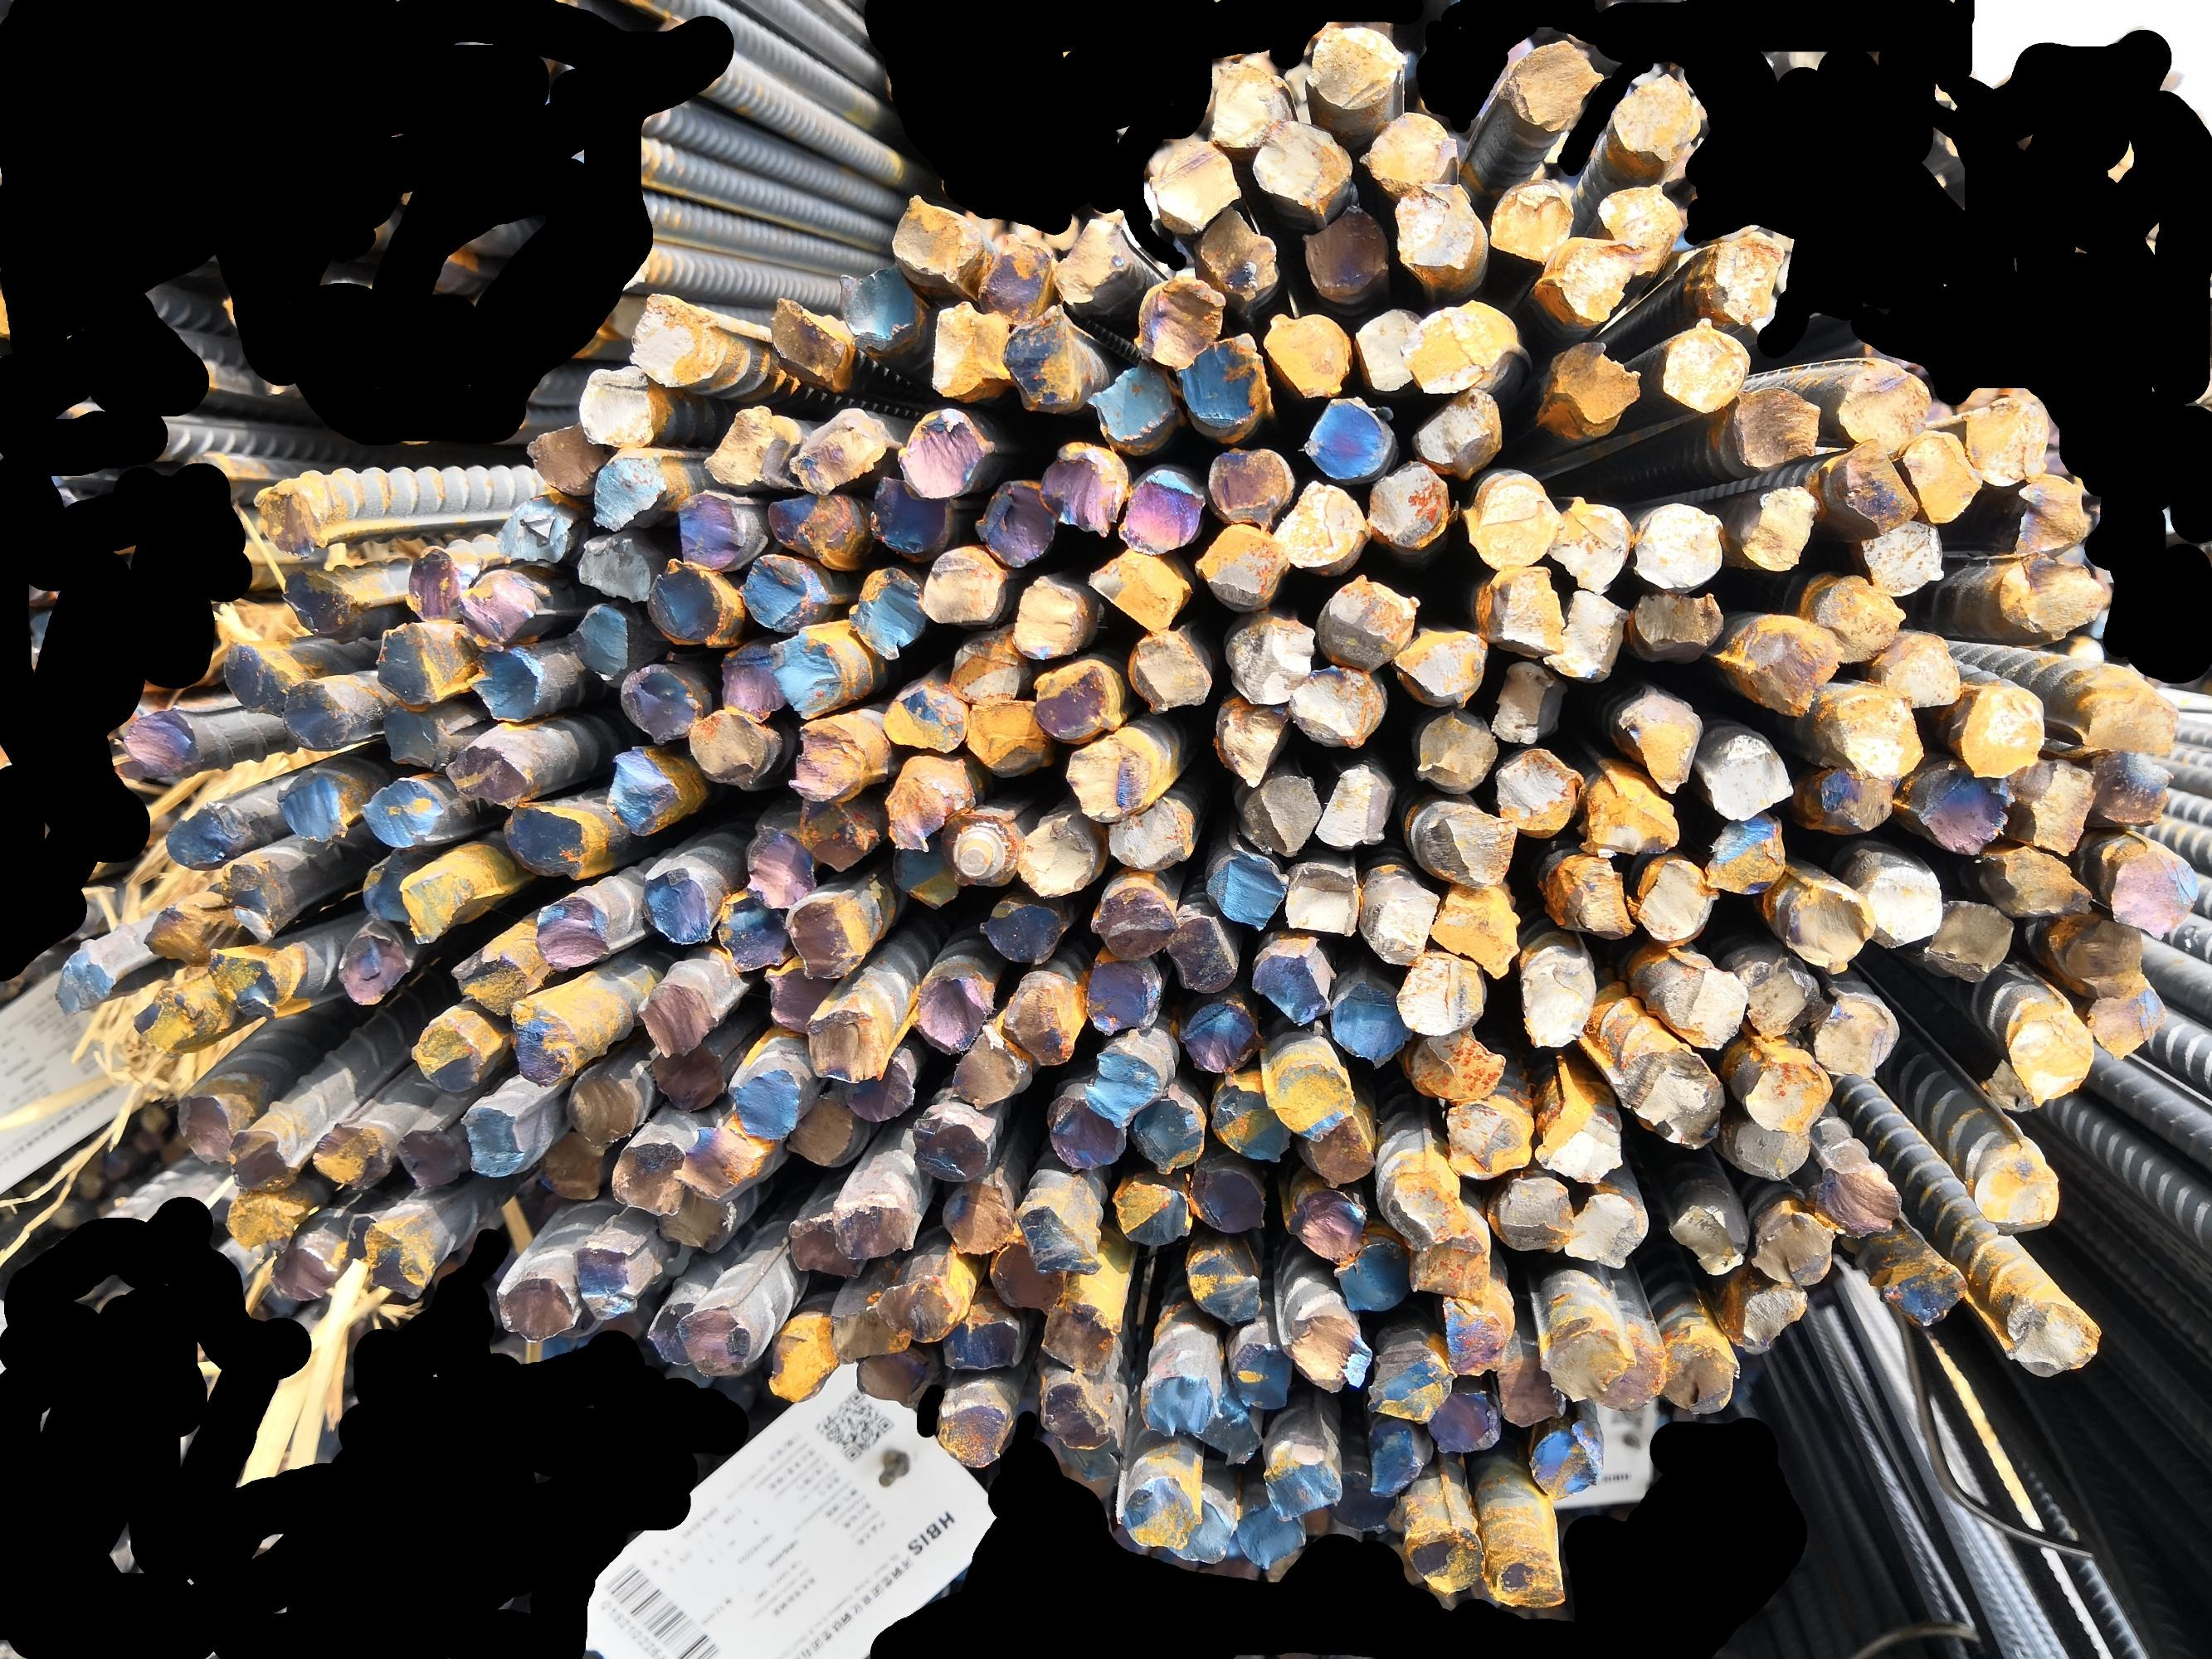bar: (1607, 1042, 1726, 1150), (1400, 295, 1522, 394), (1811, 683, 1924, 784), (1736, 617, 1842, 718), (622, 289, 725, 390), (1832, 352, 1933, 455), (1497, 38, 1605, 134), (1992, 551, 2106, 641), (1959, 1138, 2064, 1236), (1905, 760, 2013, 854), (2069, 666, 2182, 755), (1394, 179, 1487, 288), (1994, 1290, 2102, 1382), (2099, 840, 2200, 938), (1428, 878, 1523, 981), (1175, 329, 1271, 432), (1316, 570, 1417, 666), (1252, 117, 1354, 211), (1537, 338, 1640, 432), (1632, 495, 1727, 594), (1848, 850, 1944, 950), (1579, 763, 1680, 857), (1781, 875, 1876, 976), (786, 404, 891, 495), (1656, 315, 1752, 413), (1462, 472, 1560, 568), (1082, 359, 1182, 453), (1035, 436, 1128, 537), (1802, 572, 1905, 662), (1001, 301, 1082, 415), (896, 406, 995, 498), (1306, 23, 1410, 110), (1612, 688, 1700, 793), (887, 192, 983, 286), (1607, 68, 1701, 164), (1537, 587, 1632, 683), (1956, 680, 2046, 779), (2006, 1004, 2095, 1105), (1360, 106, 1462, 193), (1084, 547, 1191, 631), (1272, 476, 1367, 570), (1532, 1089, 1625, 1185), (1700, 728, 1795, 821), (1959, 392, 2052, 488), (1191, 204, 1279, 303), (1063, 735, 1164, 823), (1536, 1316, 1637, 1403), (837, 260, 922, 362), (1131, 275, 1225, 368), (1147, 139, 1241, 232), (1626, 854, 1722, 945), (1550, 491, 1633, 594), (1297, 202, 1389, 295), (882, 755, 973, 849), (931, 296, 1009, 404), (1417, 807, 1518, 890), (1518, 948, 1598, 1053), (1222, 613, 1314, 704), (1492, 746, 1583, 838), (1656, 964, 1748, 1054), (1811, 986, 1902, 1079), (1365, 460, 1454, 554), (1595, 181, 1682, 277), (1389, 626, 1489, 709), (1834, 437, 1916, 538), (2043, 915, 2144, 997), (1279, 1307, 1370, 1398), (971, 476, 1060, 568), (1394, 948, 1487, 1037), (1260, 310, 1353, 399), (671, 1114, 758, 1208), (736, 552, 840, 631), (1208, 692, 1295, 786), (1030, 659, 1126, 744), (1405, 387, 1504, 469), (1902, 427, 1984, 526), (1051, 209, 1131, 310), (1358, 866, 1438, 967), (1733, 383, 1823, 472), (1117, 464, 1204, 556), (1297, 394, 1391, 479), (1548, 239, 1642, 324), (1921, 897, 2015, 983), (1288, 666, 1386, 748), (763, 491, 865, 570), (1731, 950, 1820, 1039), (572, 362, 662, 450), (784, 887, 870, 979), (500, 803, 596, 885), (847, 565, 929, 660), (1330, 972, 1412, 1068), (1192, 525, 1288, 606), (1703, 230, 1785, 326), (1208, 54, 1288, 152), (1489, 174, 1574, 265), (1440, 1094, 1532, 1178), (647, 556, 729, 650), (263, 1223, 352, 1309), (931, 1380, 1016, 1469), (1313, 760, 1398, 849), (866, 476, 957, 559), (1379, 1166, 1469, 1249), (1407, 709, 1497, 793), (1480, 566, 1564, 657), (769, 626, 849, 720), (1262, 1061, 1356, 1141), (1407, 1028, 1510, 1101), (605, 742, 683, 838), (1848, 519, 1947, 594), (685, 708, 772, 793), (1208, 1077, 1293, 1164), (1236, 772, 1323, 857), (699, 401, 783, 490), (1013, 1194, 1102, 1277), (1736, 483, 1820, 572), (1546, 856, 1635, 939), (767, 295, 849, 385), (1112, 1469, 1203, 1551), (1103, 795, 1198, 873), (1401, 1514, 1487, 1600), (786, 718, 873, 802), (1126, 626, 1210, 713), (1246, 941, 1330, 1028), (2005, 474, 2092, 558), (333, 918, 415, 1007), (617, 664, 706, 746), (1700, 812, 1788, 894), (1748, 1209, 1839, 1290), (974, 230, 1053, 322), (912, 962, 990, 1054), (1741, 1058, 1834, 1136), (507, 995, 584, 1089), (1204, 847, 1288, 932), (1564, 1187, 1651, 1269), (1089, 880, 1178, 960), (2020, 760, 2095, 854), (1991, 847, 2092, 917), (636, 974, 720, 1058), (1082, 1044, 1166, 1127), (1206, 446, 1290, 530), (460, 563, 546, 645), (589, 446, 671, 532), (950, 1025, 1032, 1110), (1876, 627, 1961, 709), (1489, 659, 1569, 746), (357, 774, 446, 852), (443, 737, 542, 807), (1809, 1164, 1902, 1239), (532, 892, 615, 974), (1435, 1293, 1517, 1377), (1525, 1417, 1607, 1500), (723, 1061, 804, 1147), (920, 547, 1006, 627), (1663, 1197, 1748, 1277), (309, 1115, 396, 1194), (464, 645, 551, 723), (1485, 1175, 1572, 1253), (2088, 749, 2175, 828), (490, 488, 579, 565), (1009, 570, 1086, 659), (223, 1182, 314, 1256), (743, 819, 818, 910), (1001, 978, 1075, 1068), (446, 945, 539, 1018), (1632, 591, 1726, 662), (1126, 1091, 1206, 1175), (281, 565, 366, 643), (397, 861, 476, 946), (676, 1297, 755, 1382), (1018, 812, 1096, 897), (249, 474, 326, 561), (976, 897, 1072, 967), (1177, 999, 1264, 1075), (1365, 1349, 1454, 1424), (1877, 1260, 1970, 1331), (2086, 978, 2167, 1060), (120, 704, 204, 782), (275, 762, 354, 845), (127, 979, 211, 1058), (561, 1065, 640, 1148), (652, 1178, 736, 1256), (769, 1309, 838, 1403), (804, 1006, 887, 1084), (207, 945, 293, 1021), (492, 1270, 577, 1347), (1279, 1183, 1365, 1260), (1720, 1110, 1811, 1182), (1802, 765, 1893, 836), (1039, 1298, 1119, 1378), (523, 418, 605, 497), (1046, 1093, 1128, 1171), (795, 795, 879, 871), (1260, 1445, 1344, 1521), (715, 885, 788, 972), (880, 678, 967, 751), (218, 852, 284, 948), (607, 1138, 687, 1216), (1297, 1108, 1375, 1188), (1164, 913, 1243, 993), (218, 636, 295, 718), (1086, 955, 1163, 1037), (371, 619, 439, 711), (359, 1218, 432, 1304), (1354, 307, 1428, 392), (872, 1274, 959, 1345), (1407, 1232, 1494, 1304), (173, 1082, 242, 1171), (162, 796, 242, 873), (1184, 1248, 1264, 1324), (570, 532, 654, 605), (1109, 1175, 1192, 1248), (641, 863, 713, 948), (404, 1018, 483, 1094), (784, 1208, 863, 1284), (938, 1178, 1014, 1256), (940, 810, 1018, 887), (967, 699, 1046, 775), (1283, 861, 1360, 939), (1663, 1338, 1740, 1417), (1328, 1239, 1408, 1314), (891, 828, 964, 910), (1727, 1279, 1809, 1352), (716, 636, 788, 720), (910, 1110, 994, 1182), (563, 601, 631, 688), (940, 1305, 1028, 1371), (760, 958, 837, 1035), (380, 699, 458, 774), (985, 1237, 1063, 1312), (675, 488, 744, 572), (828, 1194, 915, 1260), (225, 1124, 302, 1199), (530, 1127, 607, 1202), (397, 540, 467, 622), (568, 1239, 638, 1321), (282, 674, 354, 753), (648, 1042, 727, 1114), (1363, 1419, 1435, 1497), (840, 1051, 915, 1124), (1163, 1492, 1239, 1563), (458, 1100, 526, 1180), (1187, 1166, 1267, 1234), (784, 1094, 858, 1168), (1037, 1375, 1109, 1450), (1236, 1500, 1311, 1572), (1595, 1335, 1665, 1412), (1140, 1370, 1218, 1436), (1487, 1549, 1567, 1614), (826, 1302, 908, 1364), (138, 896, 209, 967), (1428, 1382, 1499, 1453), (1325, 1464, 1398, 1534), (1494, 1354, 1564, 1427), (1227, 1335, 1293, 1412), (394, 1124, 462, 1195), (1194, 1394, 1262, 1466), (851, 1340, 933, 1399), (51, 943, 115, 1018), (948, 634, 1020, 701), (359, 849, 413, 927), (645, 1295, 699, 1373), (1980, 1056, 2053, 1114)
